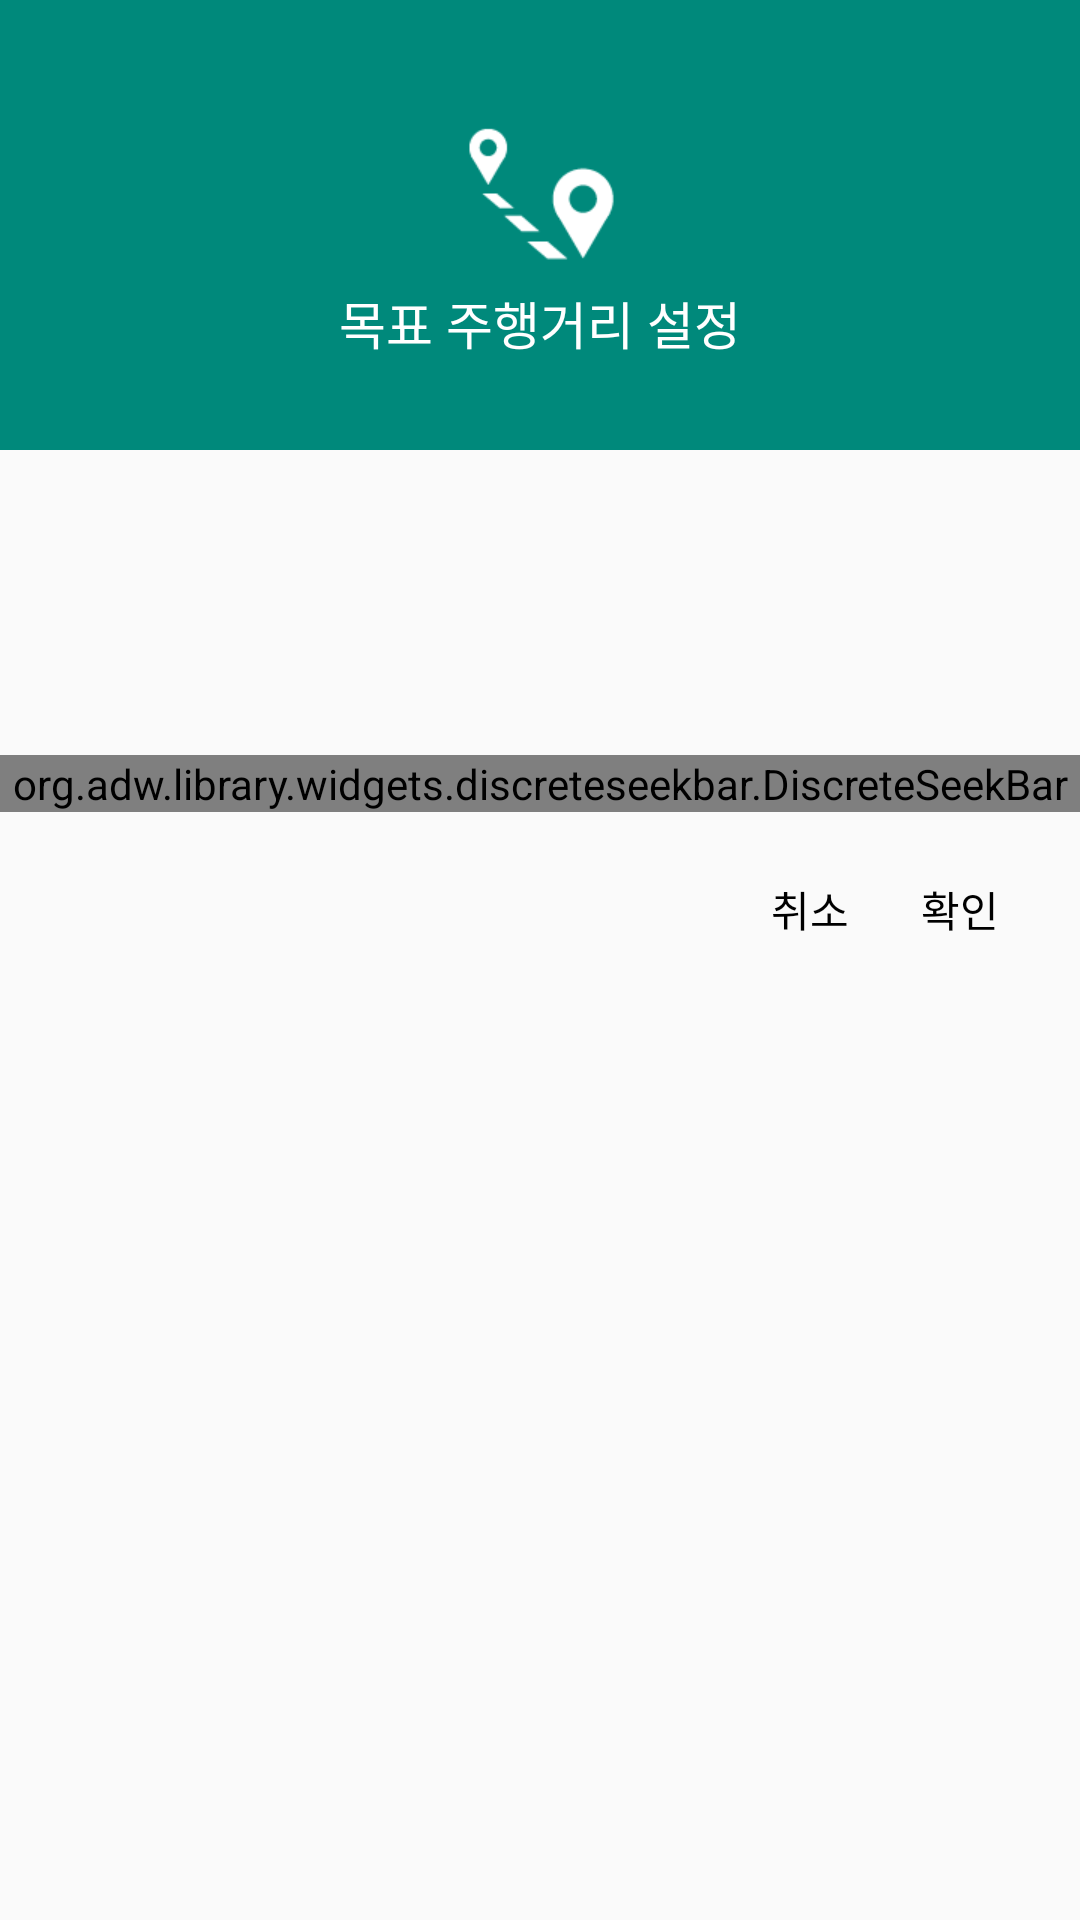

Named icons in this screenshot (1080*1920) and their centers, point (x, y):
distance: point (541, 194)
